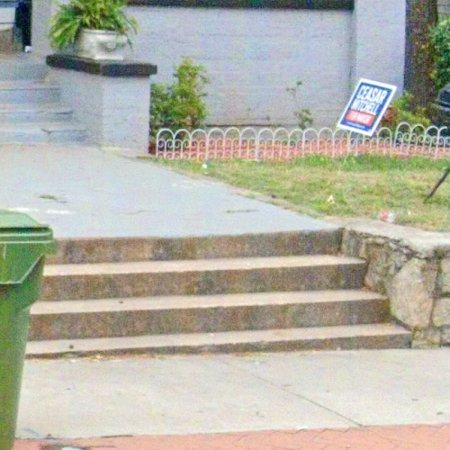stairs: (26, 230, 411, 358)
